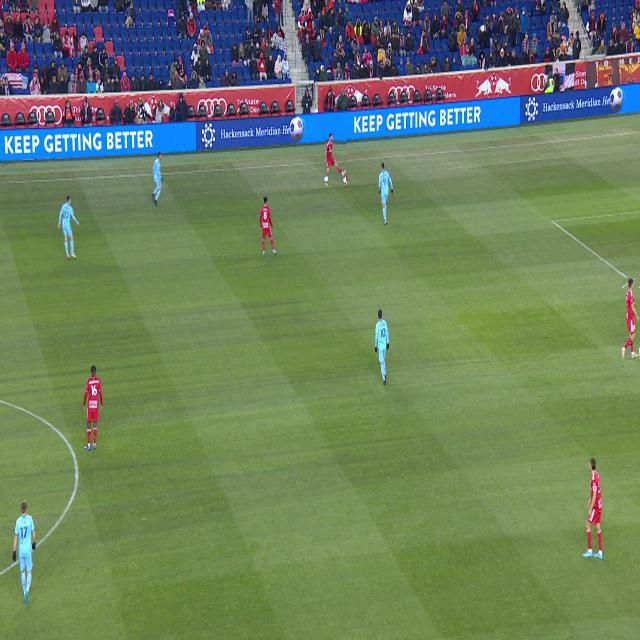football: (324, 175, 329, 183)
player: (12, 500, 36, 605), (583, 457, 603, 560), (83, 366, 102, 451), (622, 279, 640, 359), (58, 195, 80, 259), (375, 310, 389, 385), (326, 134, 346, 186), (260, 196, 277, 256), (379, 162, 393, 225), (152, 152, 163, 206)
